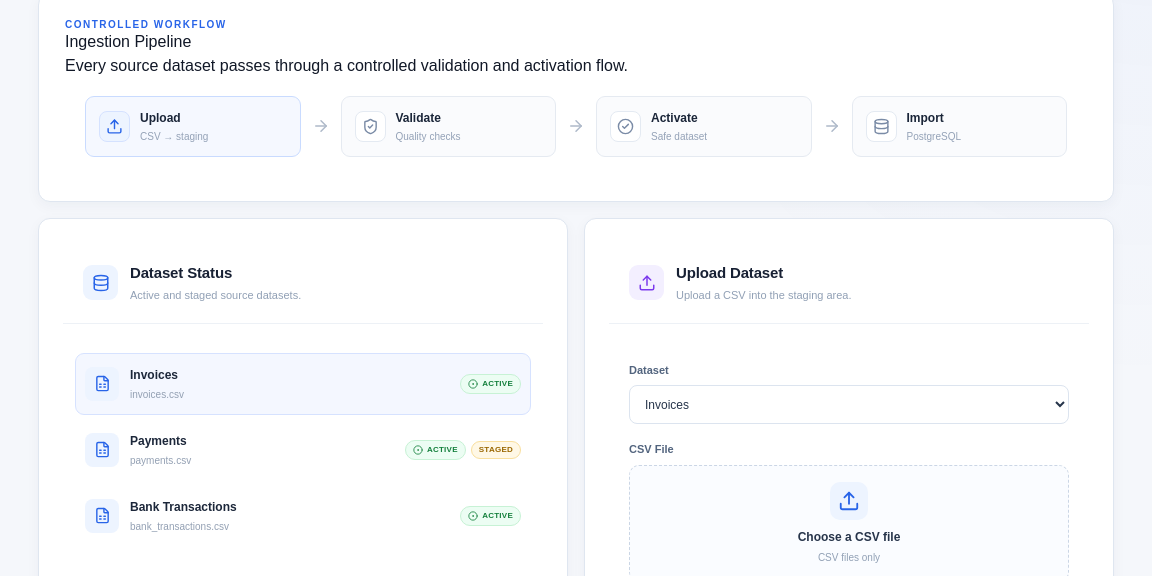
Test: DataIngestion › displays validation issues and blocks activation when errors exist
Expected: the text "invoices.csv" is shown, [130,389,184,400]
Click the button "Payments payments.csv ACTIVE STAGED" at x=102, y=450, box [75,419,531,481]
(page scrolled)
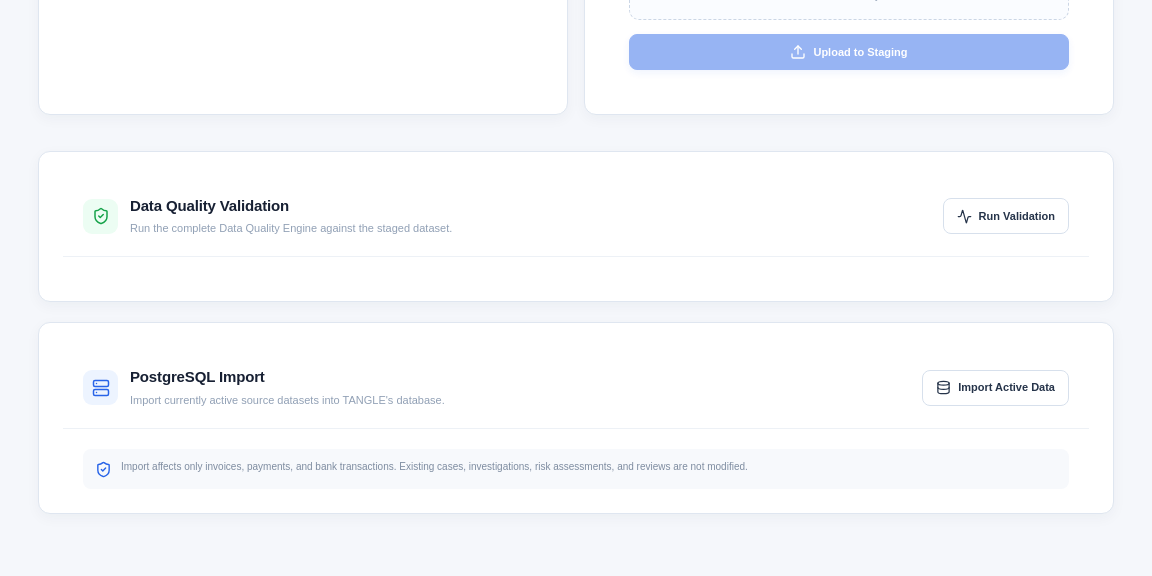
Click the button "Run Validation" at x=1006, y=216, box [943,198,1069,234]
(page scrolled)
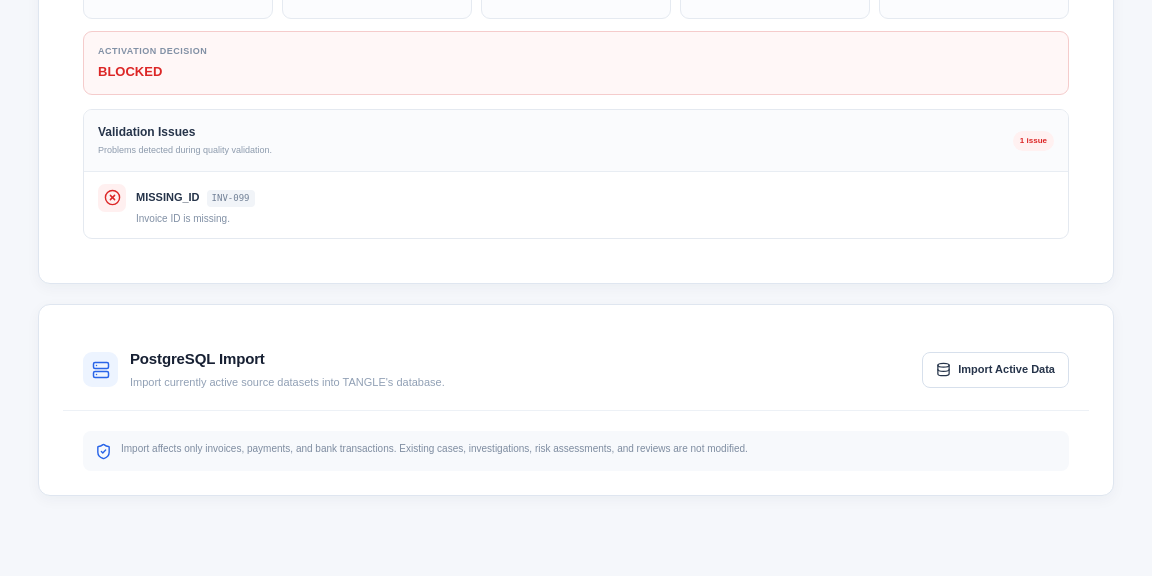
Now the text "Activation Decision" is shown, box [98,45,207,59]
Now the text "BLOCKED" is shown, box [98,64,162,79]
Now the heading "Validation Issues" is shown, box [98,125,195,139]
